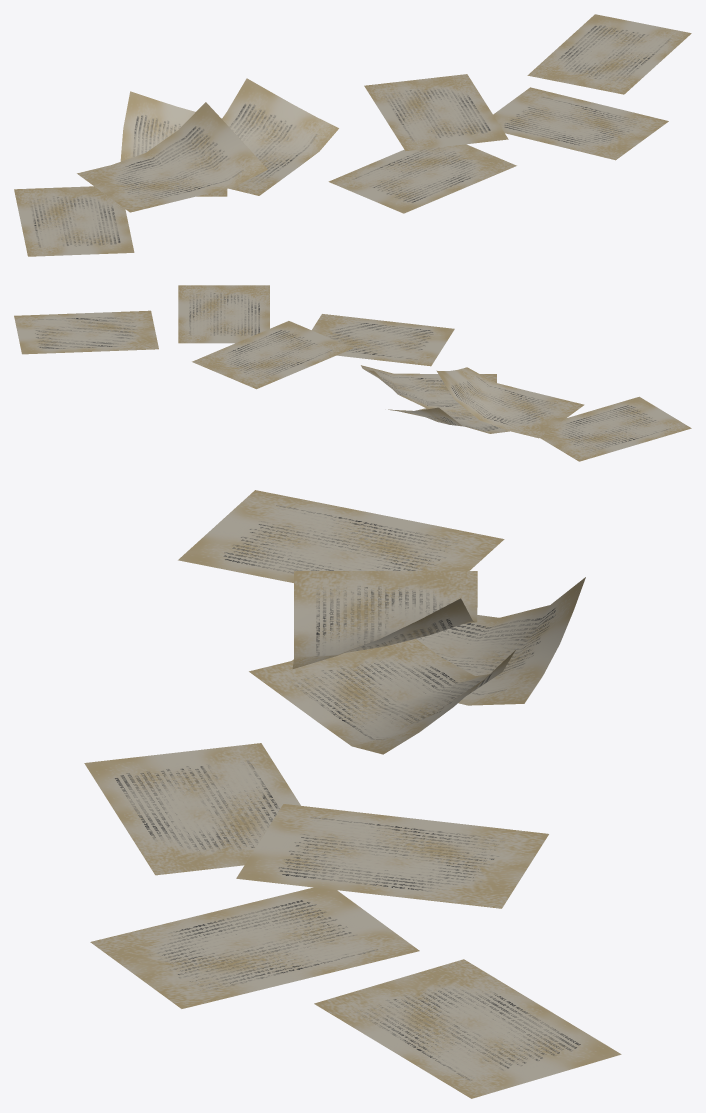
The model's file is Paper.FBX.
The picture shows the model from 3 angles, top to bottom: view 1: azimuth 30°, elevation 25°; view 2: azimuth 150°, elevation 25°; view 3: azimuth 270°, elevation 25°; orthographic projection. The views are drawn at different scales.
Visible parts, largest first — view 1: Plane004; view 2: Plane004; view 3: Plane004.
Part boxes in pixels (<box>): Plane004: <box>14,14,691,256</box>; Plane004: <box>14,285,691,461</box>; Plane004: <box>84,490,621,1098</box>.
Bounding box in the file's own units: 393 × 27.36 × 147.
